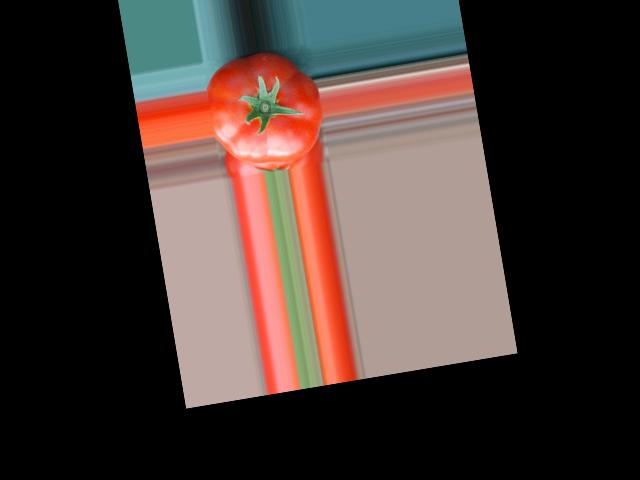tomato: (202, 44, 330, 173)
